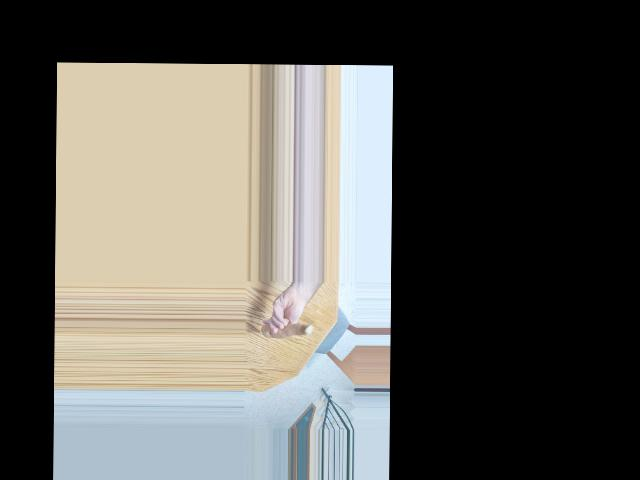sweet_potato: (263, 318, 314, 339)
